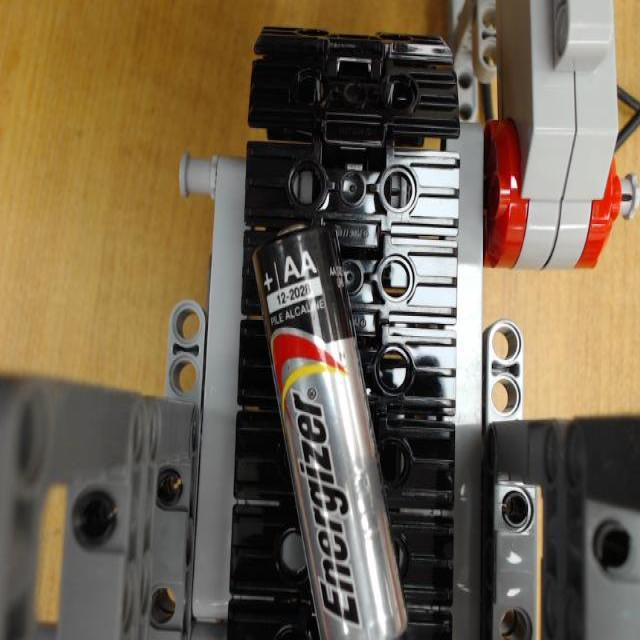AA: (256, 210, 409, 640)
